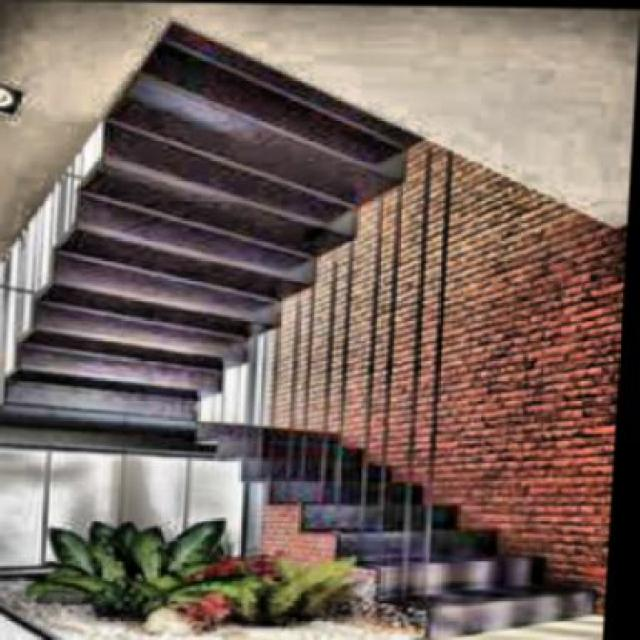stair: (207, 411, 618, 638)
